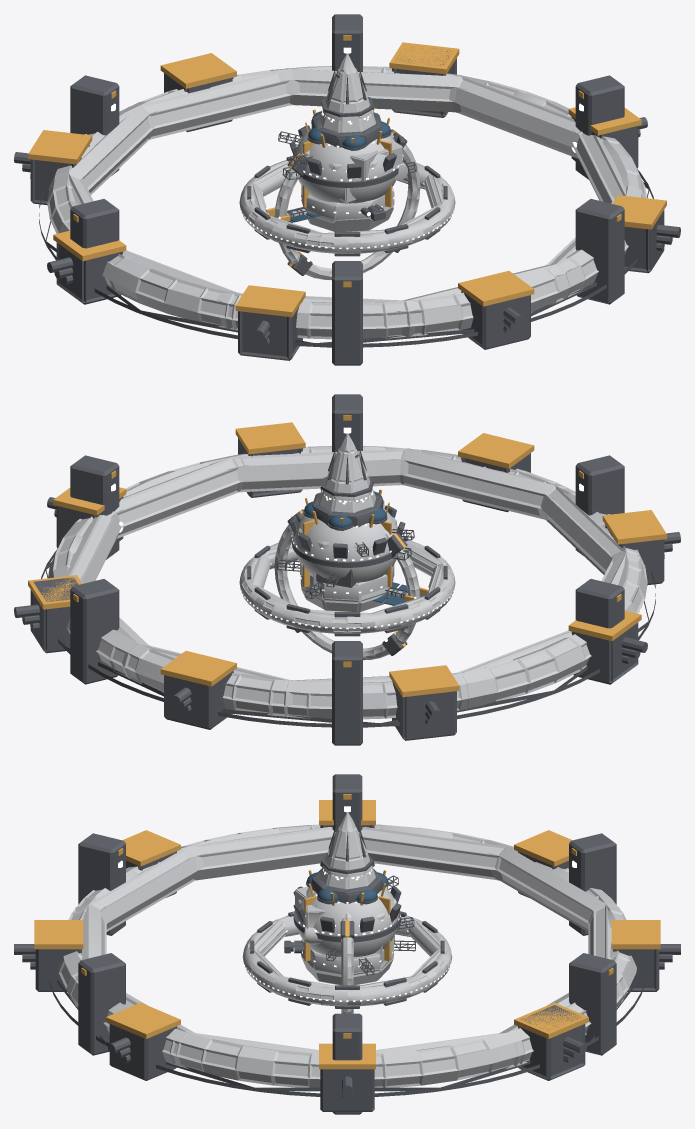
Rendered from parts.glb.
3 renders of one model, top to bottom at view 1: azimuth 30°, elevation 25°; view 2: azimuth 150°, elevation 25°; view 3: azimuth 270°, elevation 25°, orthographic. The views are drawn at different scales.
Visible parts, largest first — view 1: P|gate|ancient|0|hull, P|gate|industrial|0|hull, P|gate|ancient|0|dark, P|gate|industrial|0|dark, P|gate|industrial|0|accent, P|st_core|organic|0|hull, P|st_core|cathedral|0|hull, P|st_ring|brick|0|hull, P|lane_ring|std|0|hull, P|st_ring|cathedral|0|hull, P|st_core|cathedral|0|dark, P|st_ring|organic|0|hull (+8 smaller); view 2: P|gate|ancient|0|hull, P|gate|industrial|0|hull, P|gate|ancient|0|dark, P|gate|industrial|0|dark, P|gate|industrial|0|accent, P|st_core|organic|0|hull, P|st_ring|brick|0|hull, P|lane_ring|std|0|hull, P|st_ring|cathedral|0|hull, P|st_core|cathedral|1|hull, P|st_core|cathedral|0|hull, P|st_core|cathedral|0|dark (+10 smaller); view 3: P|gate|ancient|0|hull, P|gate|ancient|0|dark, P|gate|industrial|0|hull, P|gate|industrial|0|dark, P|gate|industrial|0|accent, P|st_ring|brick|0|hull, P|st_core|organic|0|hull, P|st_core|cathedral|0|hull, P|st_ring|cathedral|0|hull, P|st_core|cathedral|0|dark, P|st_ring|brick|0|dark, P|st_ring|organic|0|hull (+8 smaller).
Boxes of the visible parts, <box> form: P|gate|ancient|0|hull: <box>49,68,626,336</box>; P|gate|industrial|0|hull: <box>47,66,646,339</box>; P|gate|ancient|0|dark: <box>45,14,649,365</box>; P|gate|industrial|0|dark: <box>14,47,680,360</box>; P|gate|industrial|0|accent: <box>28,42,666,317</box>; P|st_core|organic|0|hull: <box>297,128,395,203</box>; P|st_core|cathedral|0|hull: <box>301,53,393,231</box>; P|st_ring|brick|0|hull: <box>239,160,455,253</box>; P|lane_ring|std|0|hull: <box>274,132,420,280</box>; P|st_ring|cathedral|0|hull: <box>252,162,442,245</box>; P|st_core|cathedral|0|dark: <box>289,66,405,178</box>; P|st_ring|organic|0|hull: <box>241,160,453,253</box>; P|gate|ancient|0|hull: <box>68,448,645,716</box>; P|gate|industrial|0|hull: <box>48,446,647,719</box>; P|gate|ancient|0|dark: <box>45,394,649,745</box>; P|gate|industrial|0|dark: <box>14,438,680,740</box>; P|gate|industrial|0|accent: <box>28,422,666,697</box>; P|st_core|organic|0|hull: <box>294,508,397,582</box>; P|st_ring|brick|0|hull: <box>239,540,455,633</box>; P|lane_ring|std|0|hull: <box>274,512,420,660</box>; P|st_ring|cathedral|0|hull: <box>244,542,446,621</box>; P|st_core|cathedral|1|hull: <box>301,434,393,611</box>; P|st_core|cathedral|0|hull: <box>301,433,393,611</box>; P|st_core|cathedral|0|dark: <box>289,446,405,558</box>; P|gate|ancient|0|hull: <box>70,827,624,1066</box>; P|gate|ancient|0|dark: <box>57,774,638,1114</box>; P|gate|industrial|0|hull: <box>58,824,636,1087</box>; P|gate|industrial|0|dark: <box>14,825,680,1111</box>; P|gate|industrial|0|accent: <box>34,800,660,1069</box>; P|st_ring|brick|0|hull: <box>242,915,451,1006</box>; P|st_core|organic|0|hull: <box>296,887,398,957</box>; P|st_core|cathedral|0|hull: <box>301,812,391,985</box>; P|st_ring|cathedral|0|hull: <box>248,917,447,991</box>; P|st_core|cathedral|0|dark: <box>293,824,401,932</box>; P|st_ring|brick|0|dark: <box>250,911,444,1008</box>; P|st_ring|organic|0|hull: <box>244,916,451,1005</box>.
Size of the model in its own units: 490 by 206 by 490.
